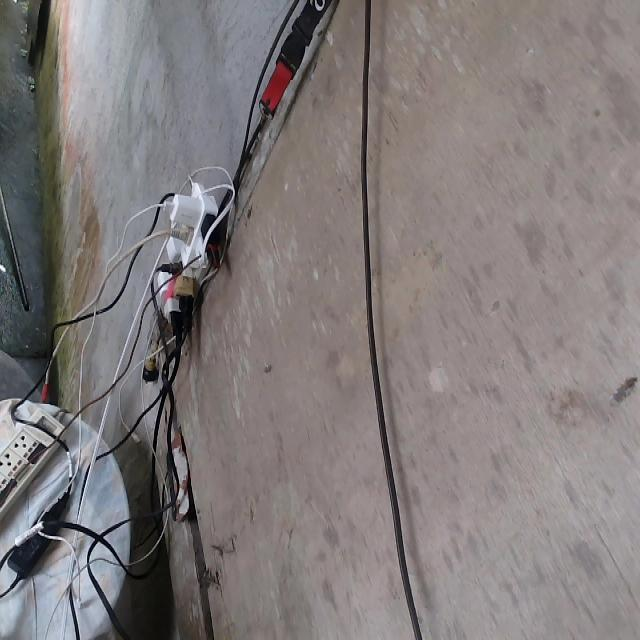-: (152, 173, 219, 340)
